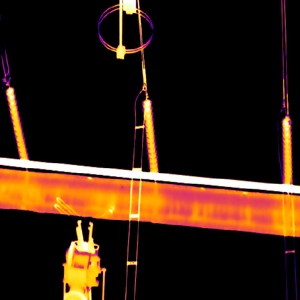insulator: (3, 85, 28, 160), (141, 96, 158, 175), (280, 114, 292, 186)
